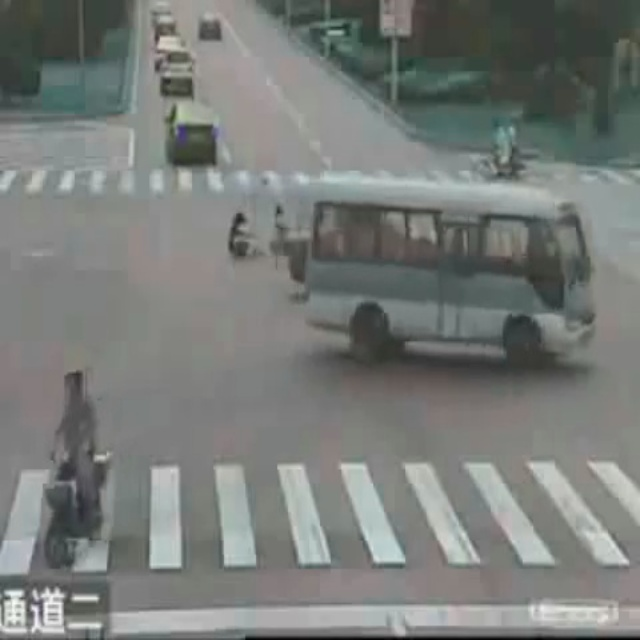acc: (218, 186, 340, 339)
